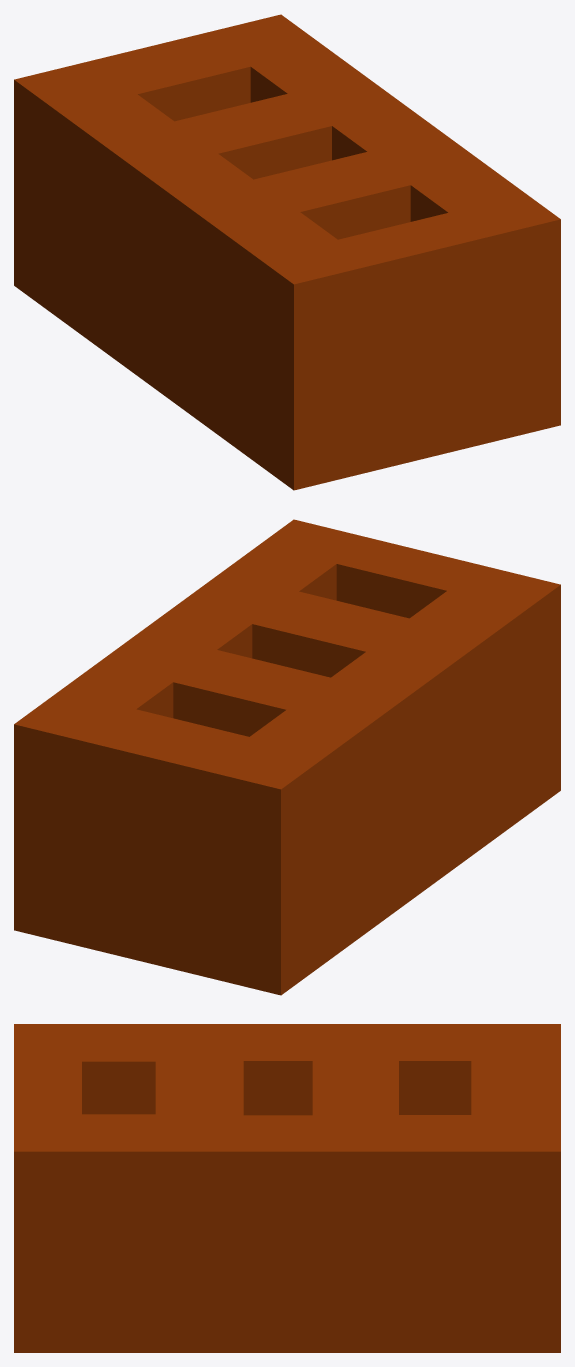
File: brick.fbx
The picture shows the model from 3 angles, top to bottom: view 1: azimuth 30°, elevation 25°; view 2: azimuth 150°, elevation 25°; view 3: azimuth 270°, elevation 25°; orthographic projection. The views are drawn at different scales.
Visible parts, largest first — view 1: Brick; view 2: Brick; view 3: Brick.
Boxes of the visible parts, x1,y1,x2,y2 form: Brick: (14,14,560,490); Brick: (14,519,560,995); Brick: (14,1024,560,1352).
Size of the model in its own units: 106 by 78.16 by 192.
